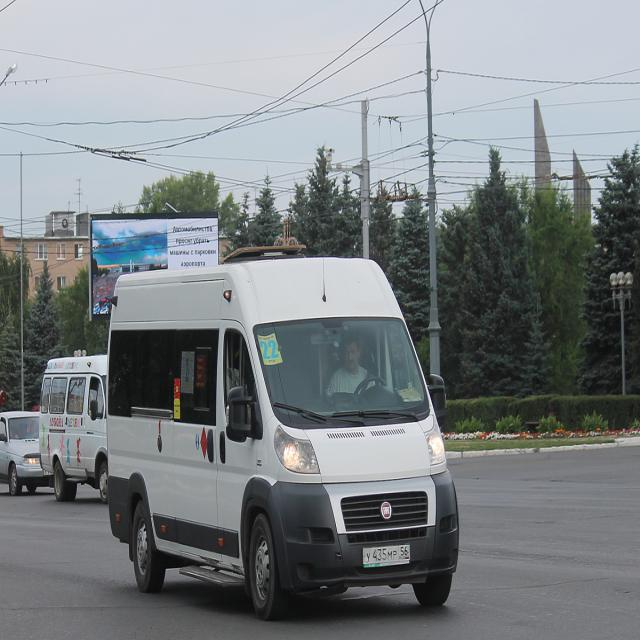number-of-bus: (259, 340, 282, 360)
